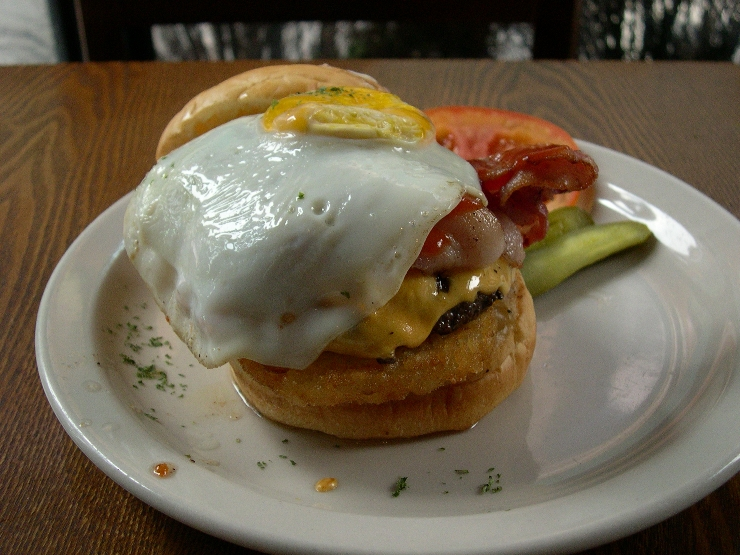fried egg: (184, 116, 462, 246)
slice of bread: (264, 364, 556, 442)
